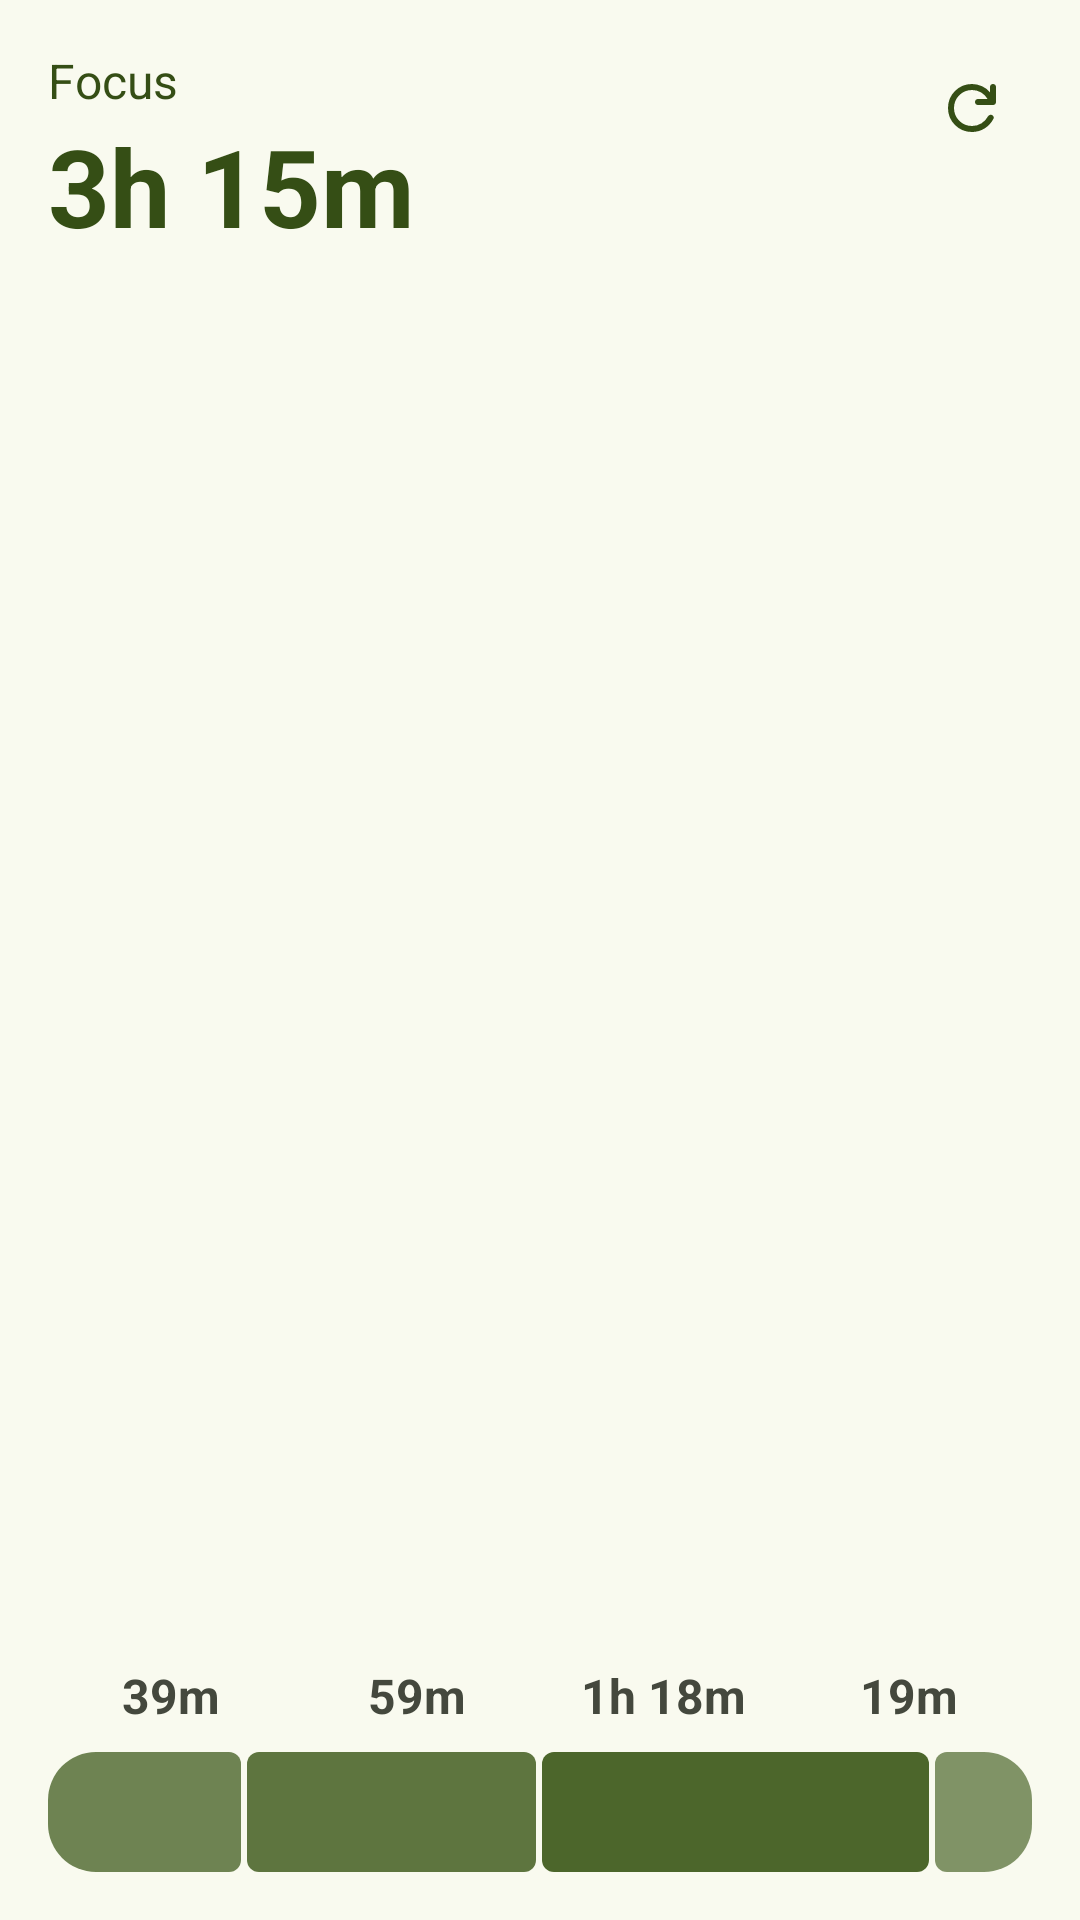

Icons on this 1080w x 1920h Android screen, each with the point to tap as (x=x, y=y):
refresh: (x=972, y=108)
